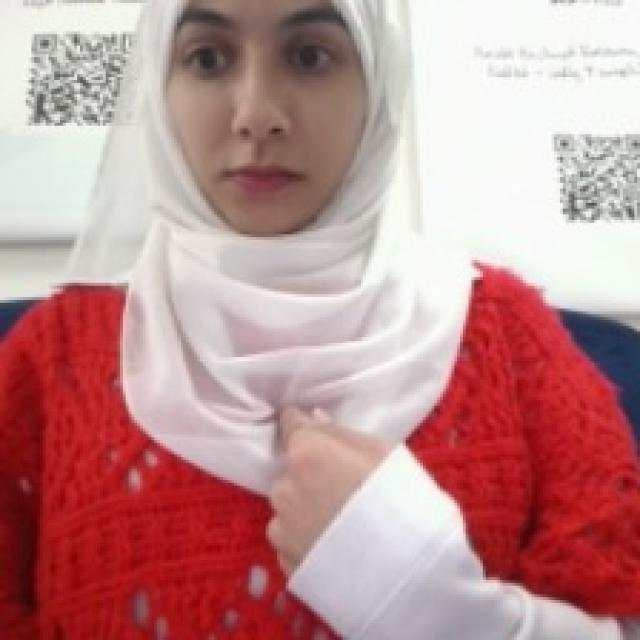me: (260, 395, 402, 589)
